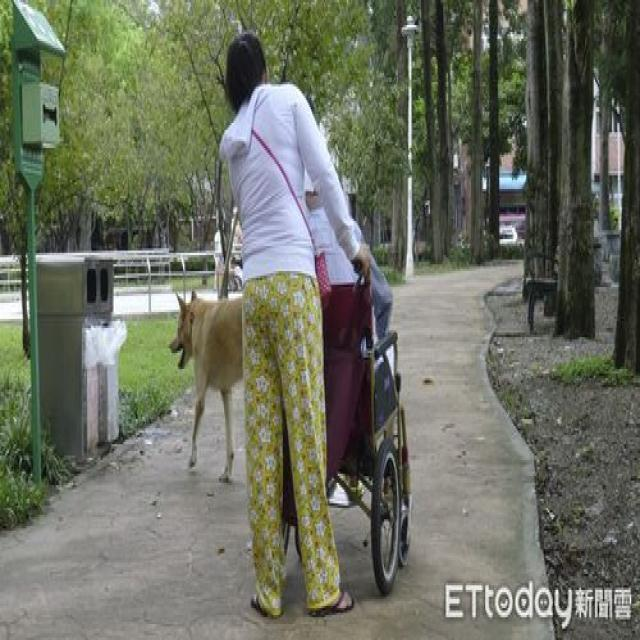wheelchairs: (281, 246, 417, 592)
